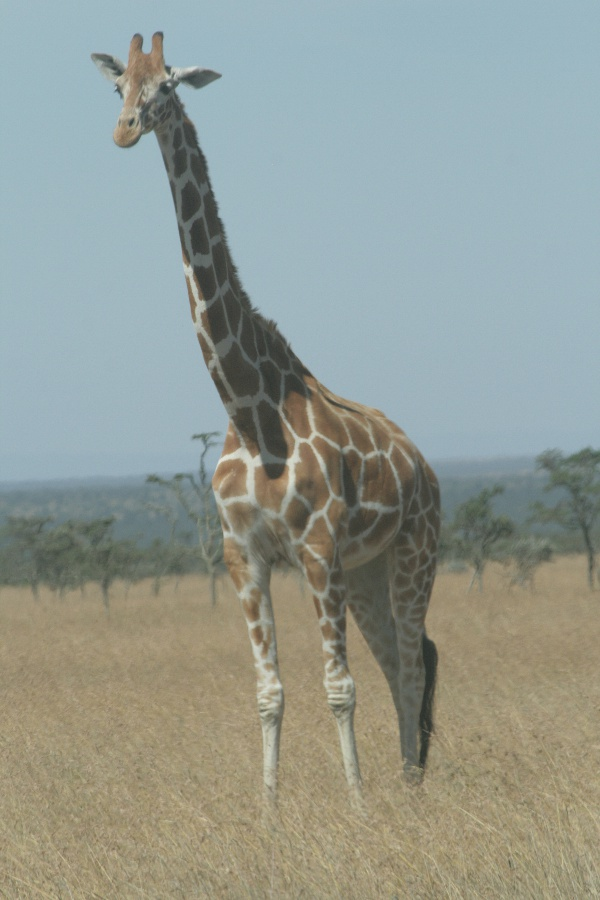giraffe: (80, 24, 459, 810)
